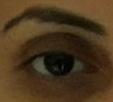open: (3, 26, 112, 97)
